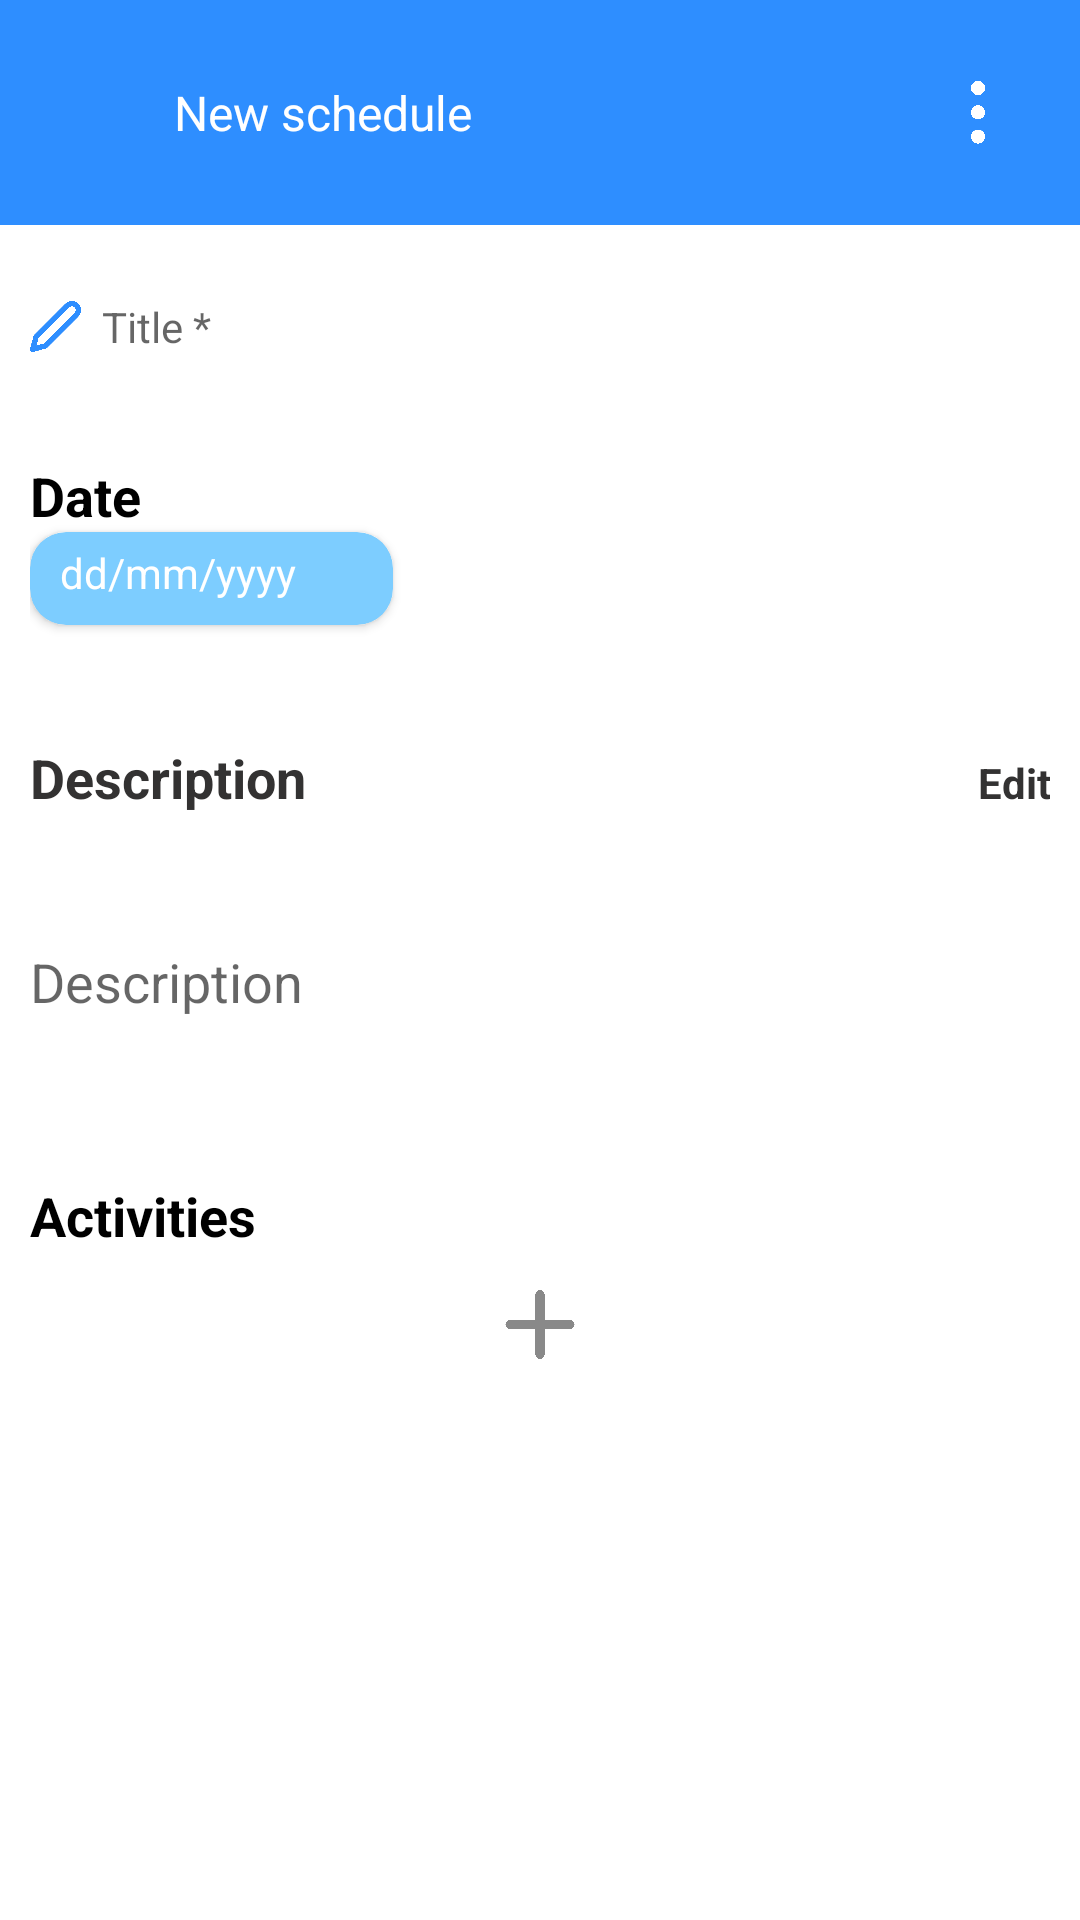

Where to tap for icons on this 1080 x 1920 app screen, as point (x, y):
Add activity: point (540, 1324)
edit: point (55, 326)
menu: point (978, 112)
